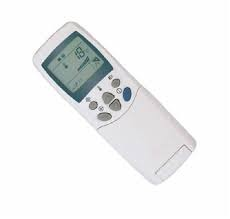remote control: (18, 20, 201, 190)
